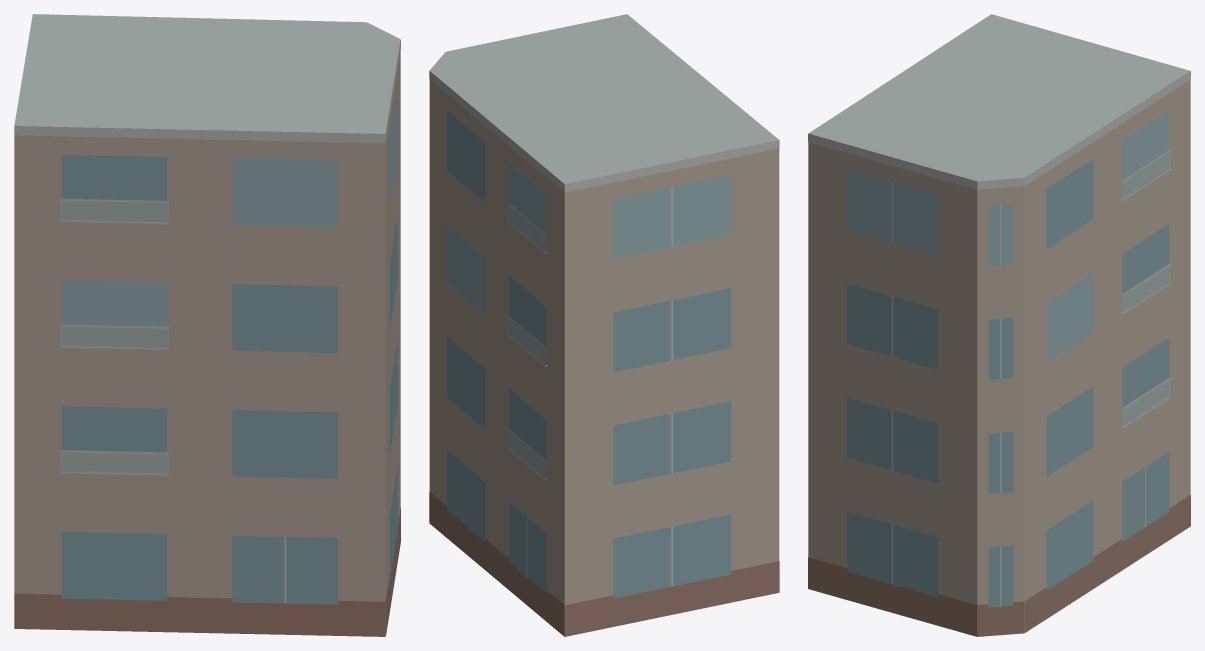
The model's file is survey-upis-32794431.glb.
3 views of the same model, side by side, from view 1: azimuth 30°, elevation 25°; view 2: azimuth 150°, elevation 25°; view 3: azimuth 270°, elevation 25° (orthographic). The views are drawn at different scales.
Visible parts, largest first — view 1: survey-upis-32794431.tmp; view 2: survey-upis-32794431.tmp; view 3: survey-upis-32794431.tmp.
Part boxes in pixels (x1,y1,x2,y2): survey-upis-32794431.tmp: [14, 14, 400, 636]; survey-upis-32794431.tmp: [429, 14, 779, 636]; survey-upis-32794431.tmp: [808, 14, 1190, 636].
Bounding box in the file's own units: 10.3 × 13.05 × 9.94.
